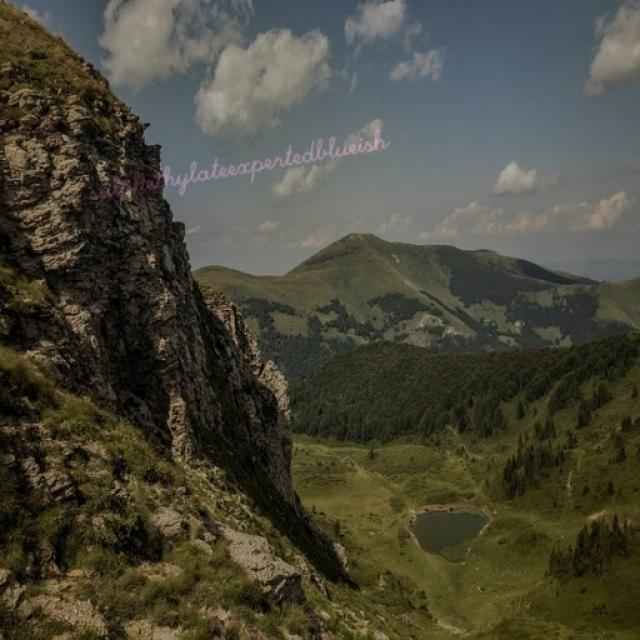watermark: (84, 125, 389, 203)
